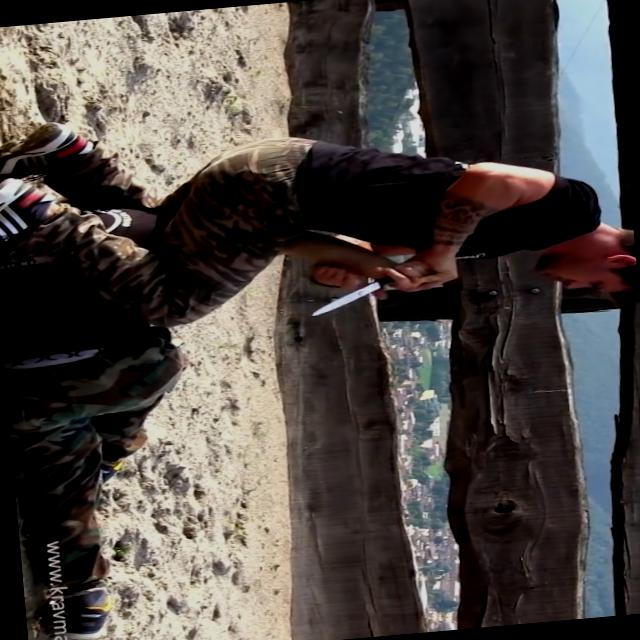knife: (296, 264, 421, 322)
